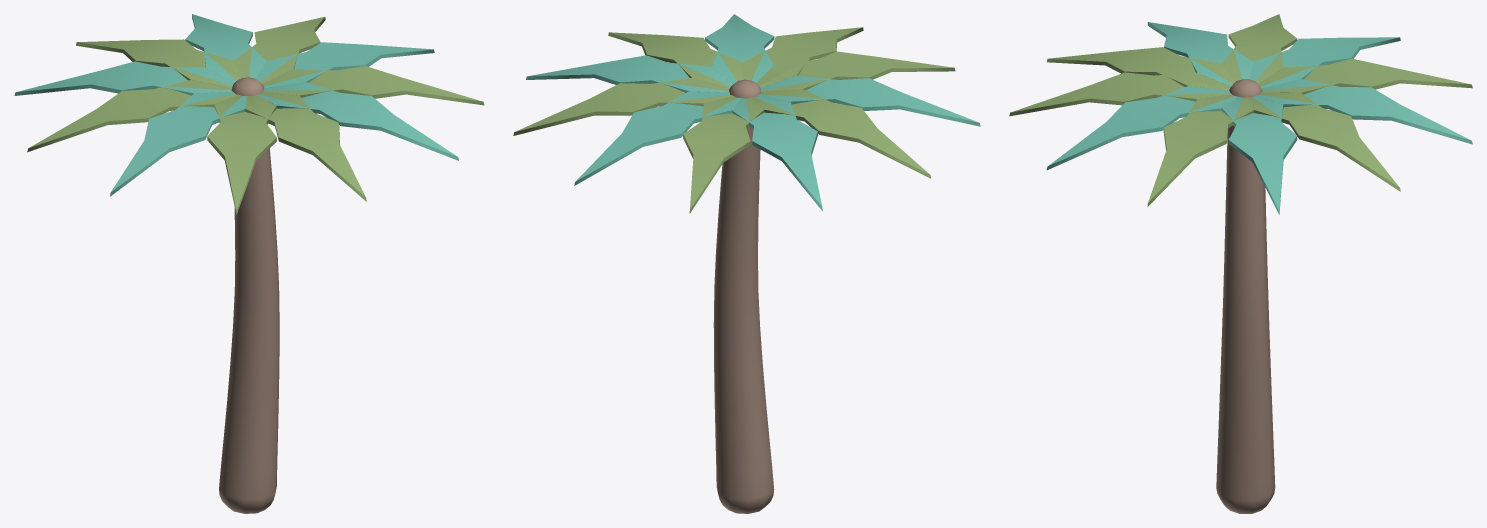
Rendered from lost-valley-dinosaurs-tree-fern-51b29b18__1675.glb.
3 renders of one model, left to right at view 1: azimuth 30°, elevation 25°; view 2: azimuth 150°, elevation 25°; view 3: azimuth 270°, elevation 25°, orthographic.
Parts seen in each view (by area): view 1: tree-fern; view 2: tree-fern; view 3: tree-fern.
Part boxes in pixels (x1=…): tree-fern: x1=14, y1=14, x2=484, y2=513; tree-fern: x1=513, y1=14, x2=980, y2=513; tree-fern: x1=1009, y1=14, x2=1472, y2=513.
Size of the model in its own units: 2.7 by 2.74 by 2.67.
